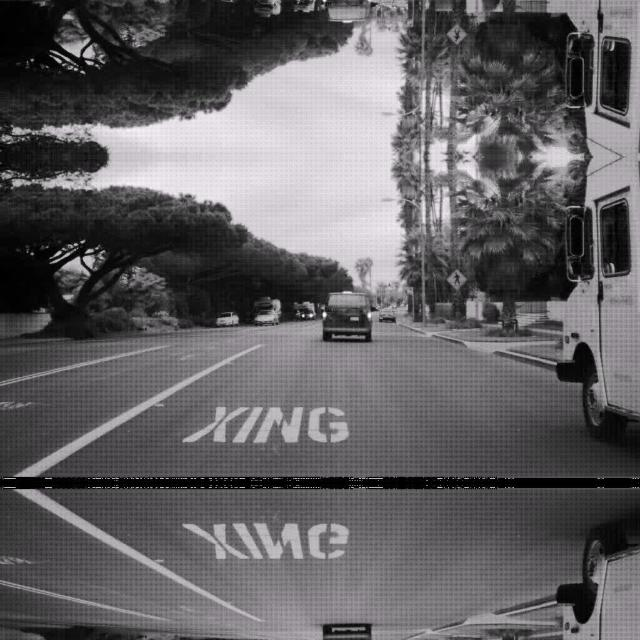pedestrianCrossing: (444, 267, 468, 289), (444, 23, 468, 45)
